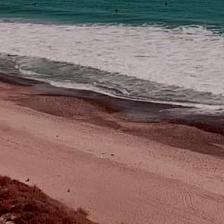surfer: (115, 8, 118, 12), (32, 2, 36, 5), (165, 2, 167, 6)
